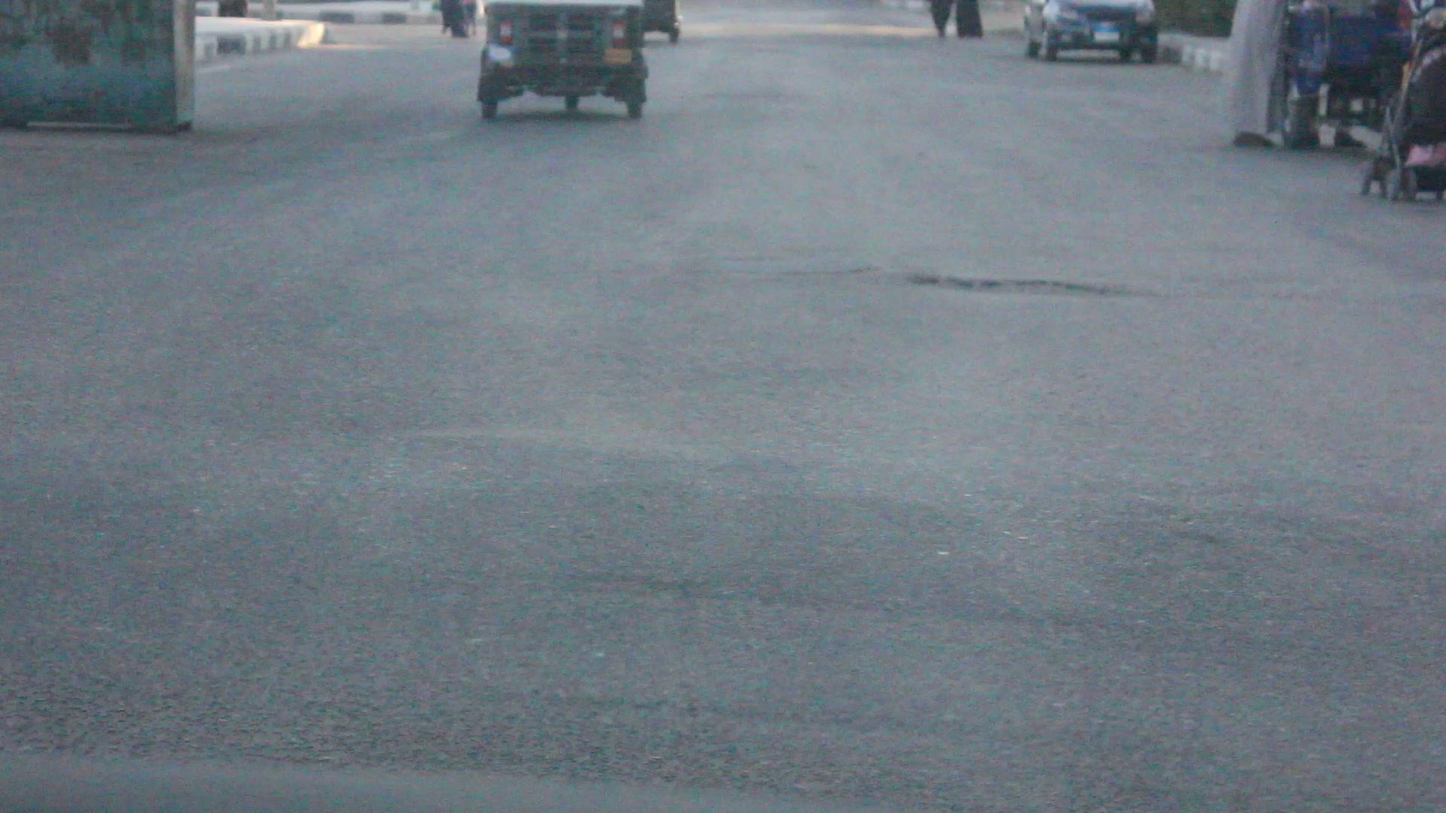Bump: (2, 454, 1442, 653)
Pothole: (900, 256, 1150, 314)
